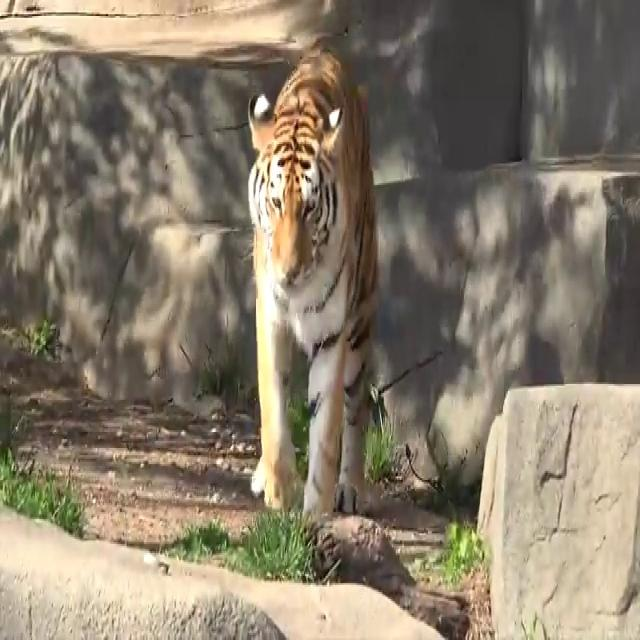tiger: (247, 45, 380, 513)
